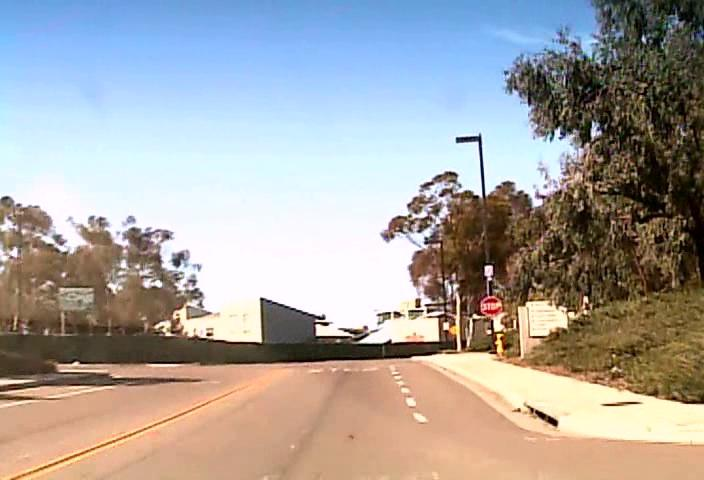stop: (479, 295, 502, 317)
